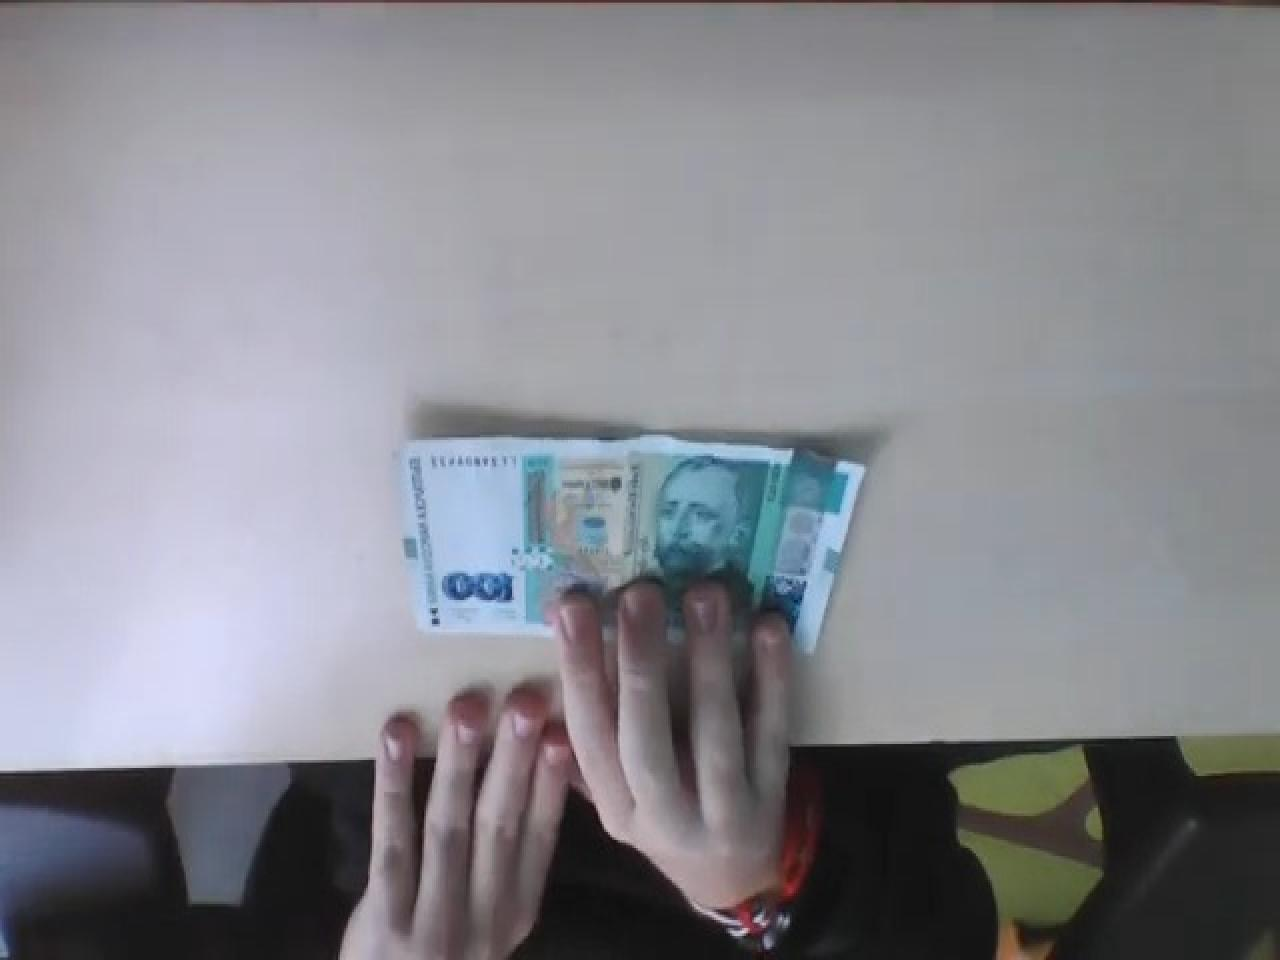100leva: (396, 433, 866, 658), (440, 571, 514, 608)
